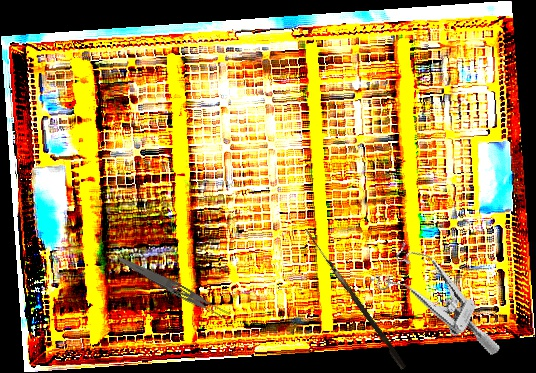Dressing Forceps: (115, 254, 233, 323)
Hook Surgical: (299, 228, 409, 371)
Speculum: (361, 234, 525, 358)
